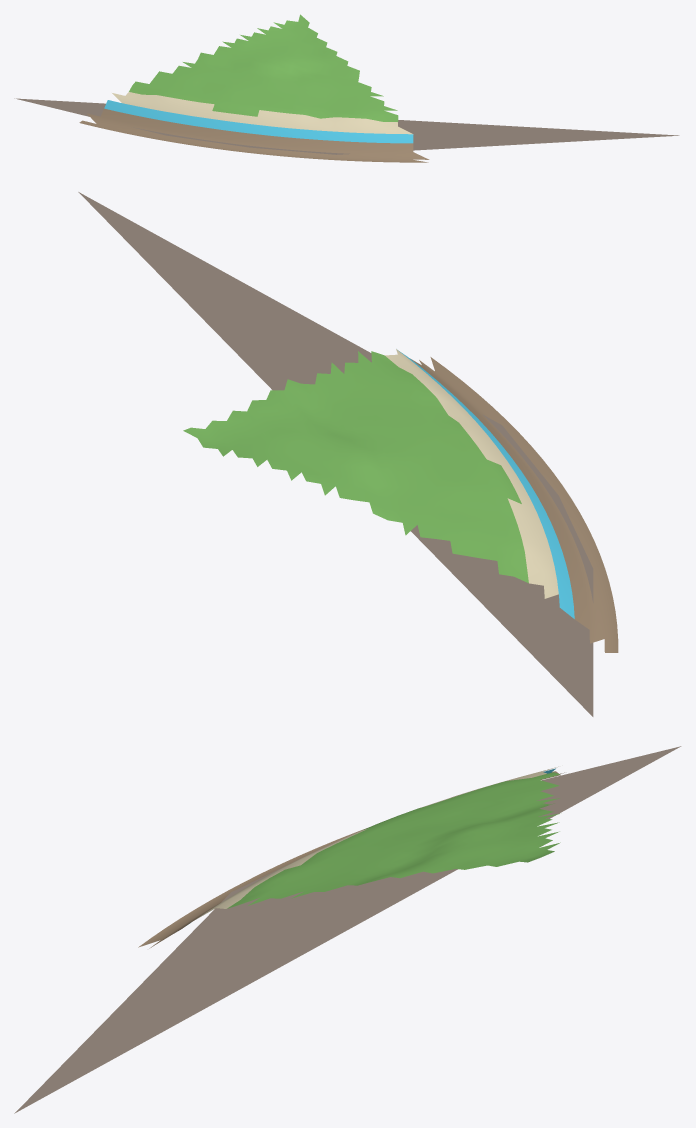
File: flagship_terrain_22.glb
3 views of the same model, one above another, from view 1: azimuth 30°, elevation 25°; view 2: azimuth 150°, elevation 25°; view 3: azimuth 270°, elevation 25° (orthographic). The views are drawn at different scales.
Visible parts, largest first — view 1: Terrain_22; view 2: Terrain_22; view 3: Terrain_22.
Part boxes in pixels (x1,y1,x2,y2): Terrain_22: (14,14,679,162); Terrain_22: (78,192,618,716); Terrain_22: (14,746,681,1113).
Size of the model in its own units: 95.2 by 11.08 by 73.05.
